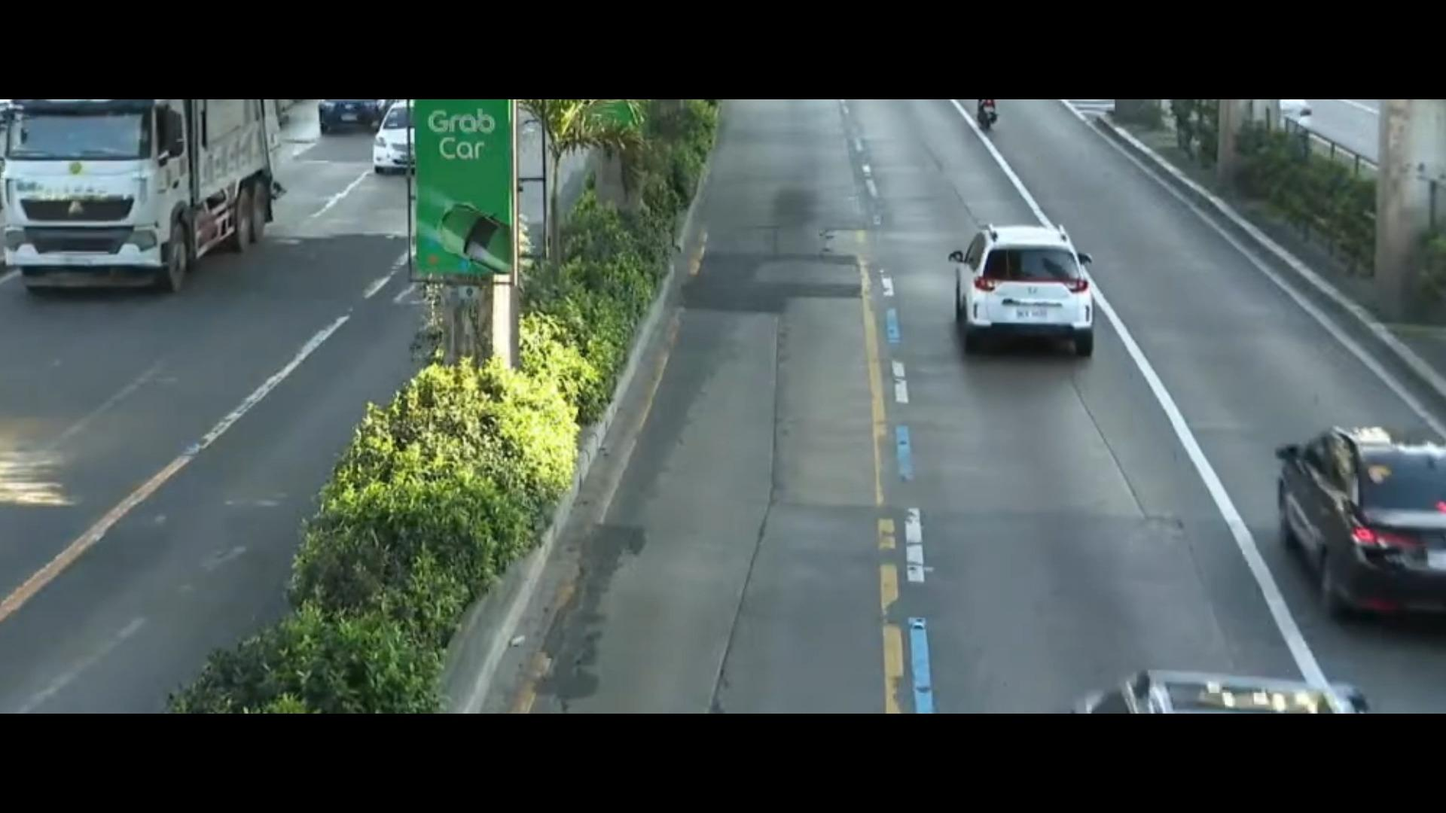SUV: (943, 196, 1145, 384)
Sedan: (1248, 399, 1446, 637), (354, 105, 417, 194)
Truck: (0, 99, 299, 304)
